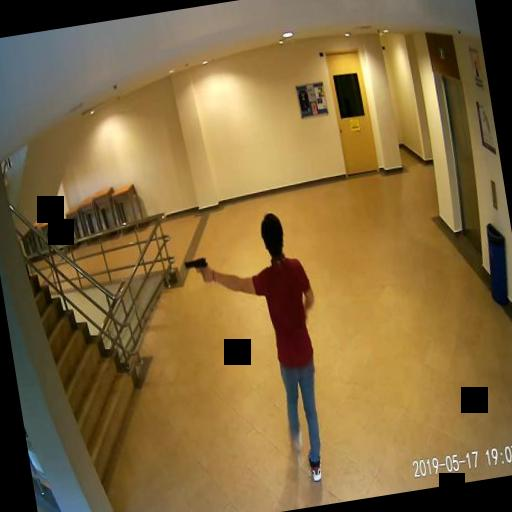Handgun: (182, 255, 208, 282)
